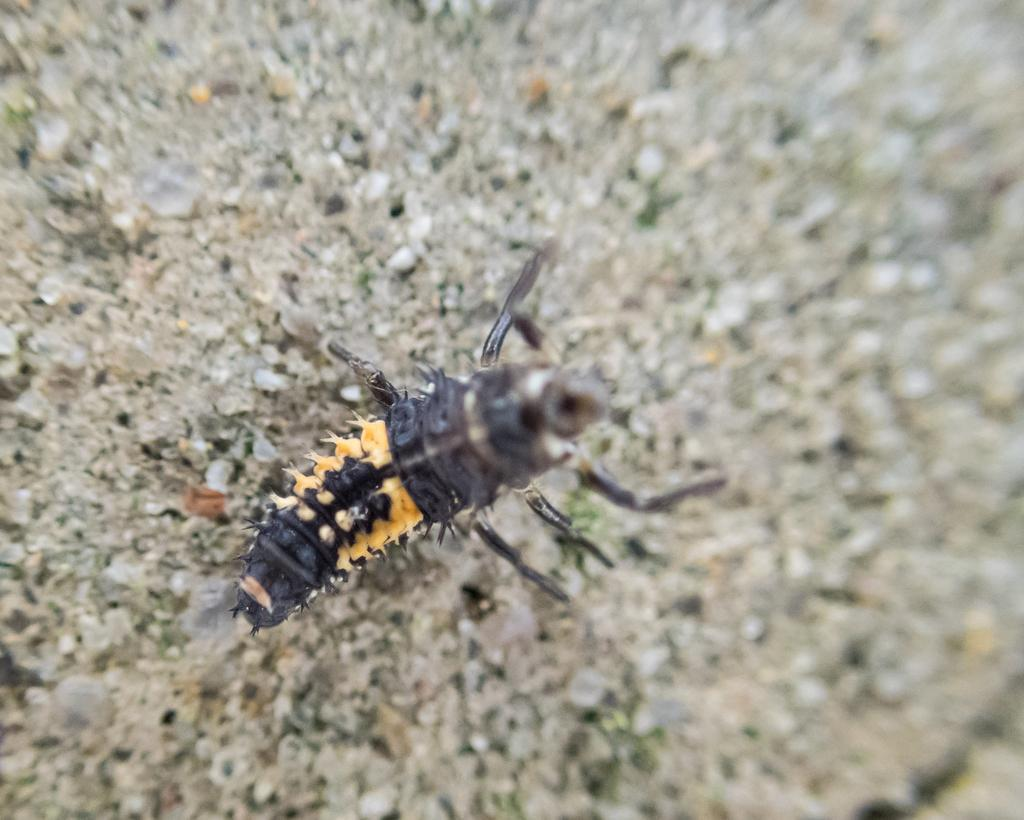ladybug: (226, 236, 734, 649)
